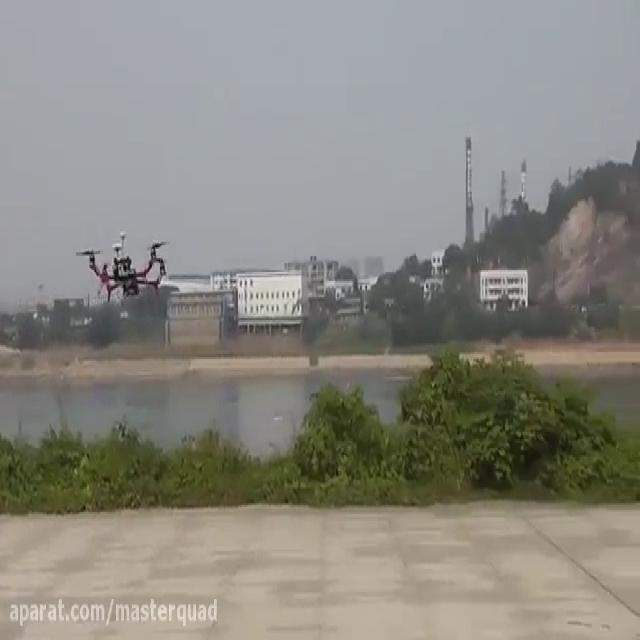drone: (74, 226, 173, 306)
